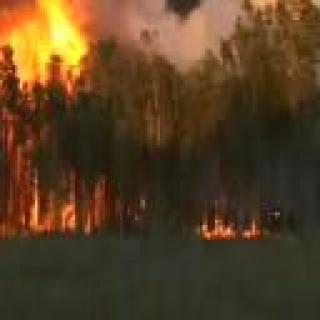fire: (0, 0, 105, 233), (189, 215, 265, 238)
